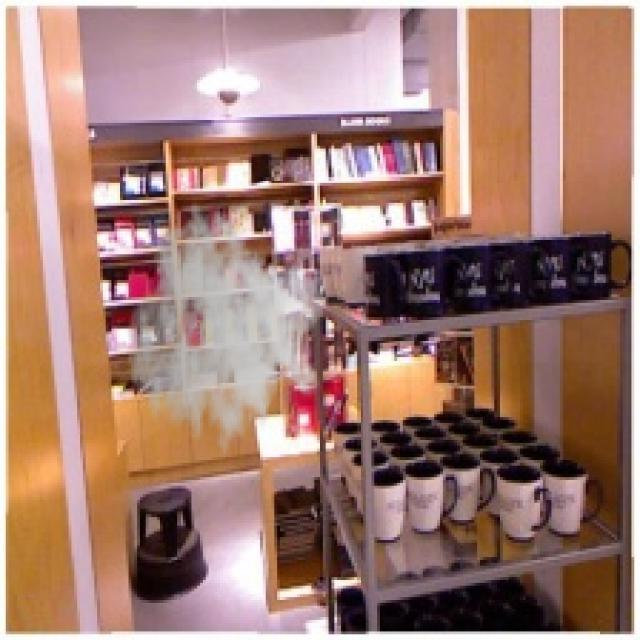smoke: (125, 200, 328, 471)
